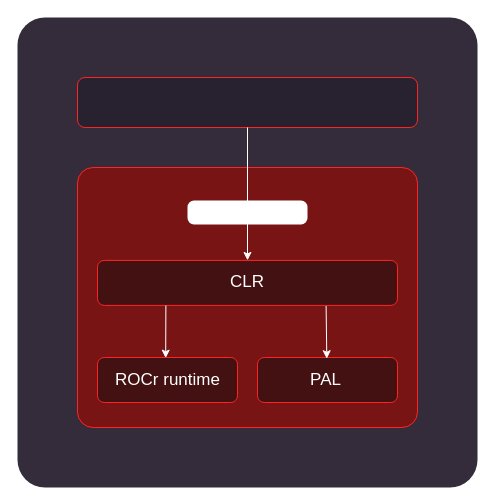
This 494x504 diagram has some shape labels left out. The shapes that lost their labels are listed below. From the top down, each one's box as (x1, y1, x2, y2) in pixels, then its label:
(76, 76, 418, 128): HIP Runtime API
(187, 200, 307, 224): AMD Platform
